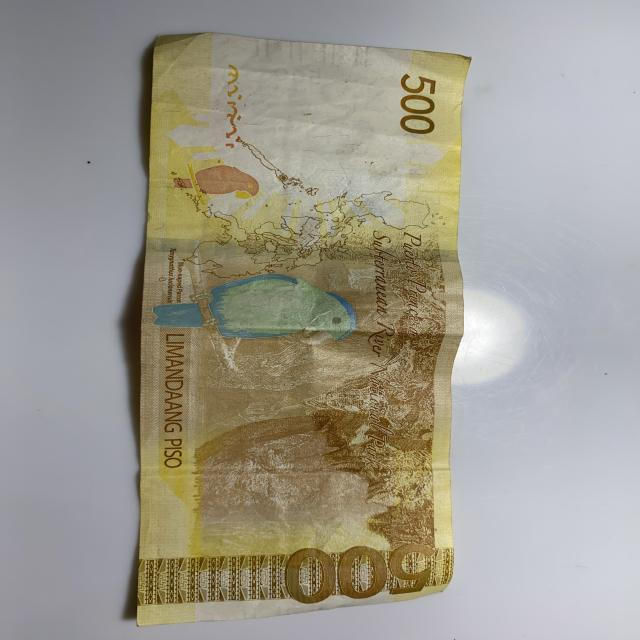500_big_parrot: (152, 274, 357, 351)
500_parrot_watermark: (173, 164, 263, 204)
value_watermark: (273, 66, 325, 86)
